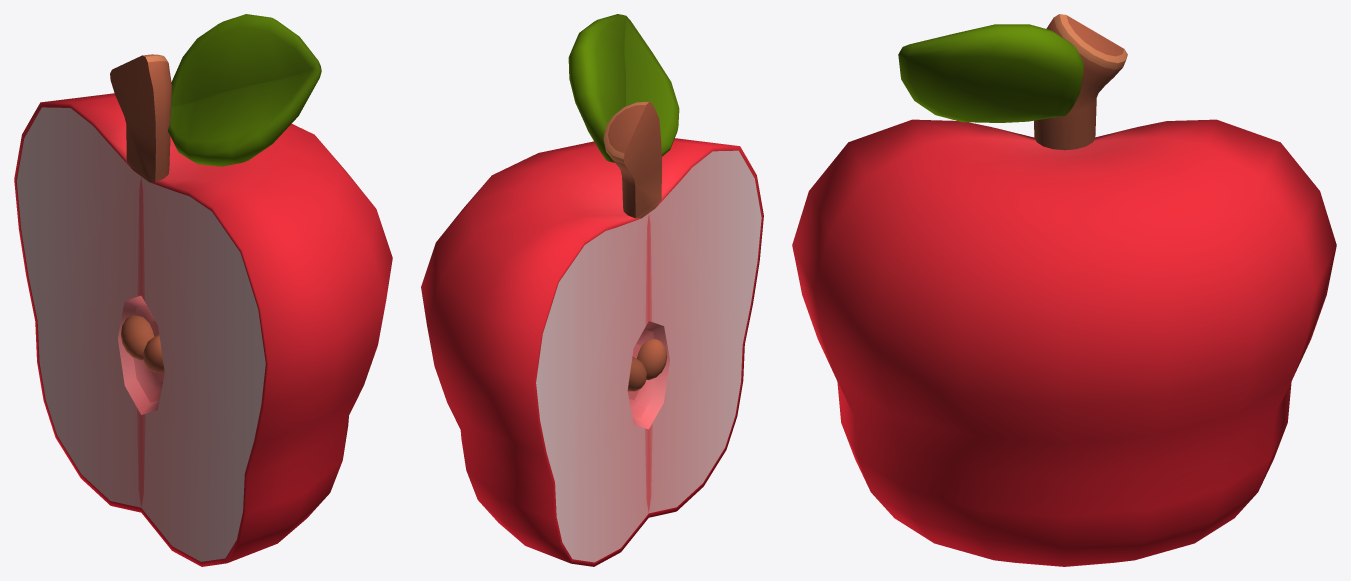
The model's file is Apple_V3_01.fbx.
3 renders of one model, left to right at view 1: azimuth 30°, elevation 25°; view 2: azimuth 150°, elevation 25°; view 3: azimuth 270°, elevation 25°, orthographic. The views are drawn at different scales.
Visible parts, largest first — view 1: Apple_V3_01; view 2: Apple_V3_01; view 3: Apple_V3_01.
Part boxes in pixels (bbox=[...]): Apple_V3_01: bbox=[14, 14, 392, 566]; Apple_V3_01: bbox=[421, 14, 763, 566]; Apple_V3_01: bbox=[792, 14, 1336, 566].
Size of the model in its own units: 16.01 by 34.43 by 31.2.
